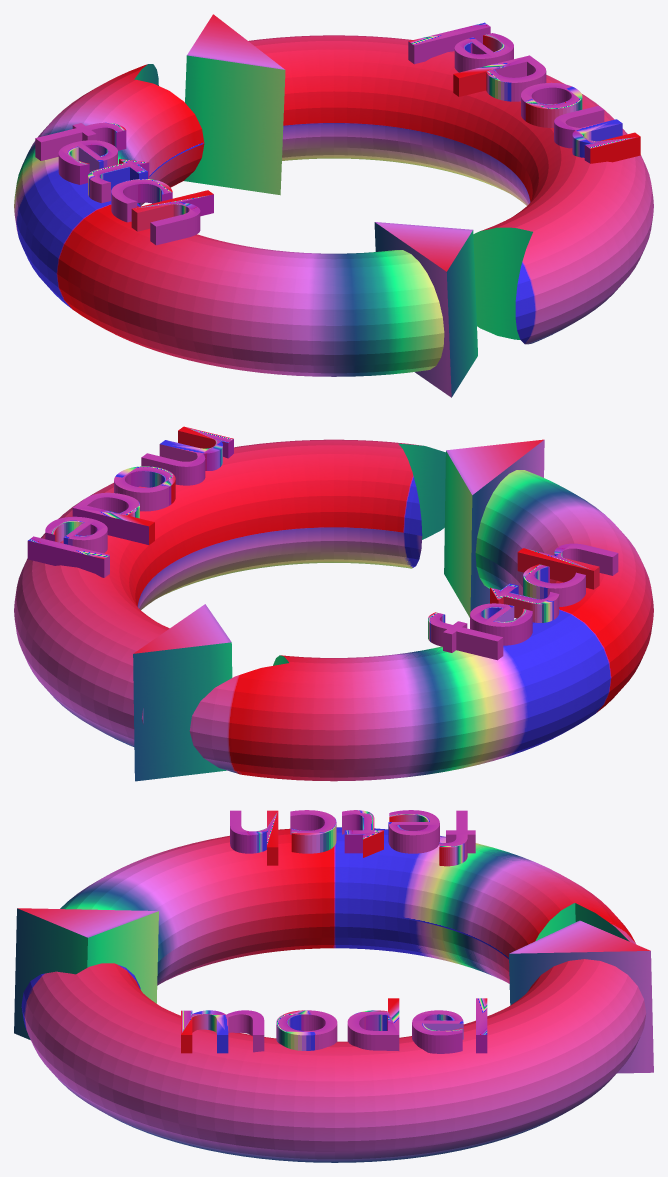
Rendered from another_test_with_gradient.glb.
The picture shows the model from 3 angles, top to bottom: view 1: azimuth 30°, elevation 25°; view 2: azimuth 150°, elevation 25°; view 3: azimuth 270°, elevation 25°; orthographic projection.
Parts seen in each view (by area): view 1: TorusFinalWithText; view 2: TorusFinalWithText; view 3: TorusFinalWithText.
Part boxes in pixels (bbox=[...]): TorusFinalWithText: bbox=[14, 14, 653, 397]; TorusFinalWithText: bbox=[14, 426, 653, 781]; TorusFinalWithText: bbox=[14, 810, 653, 1162].
Bounding box in the file's own units: 2.47 × 0.5917 × 2.51.
Materials: 1 (1 with a texture image).
